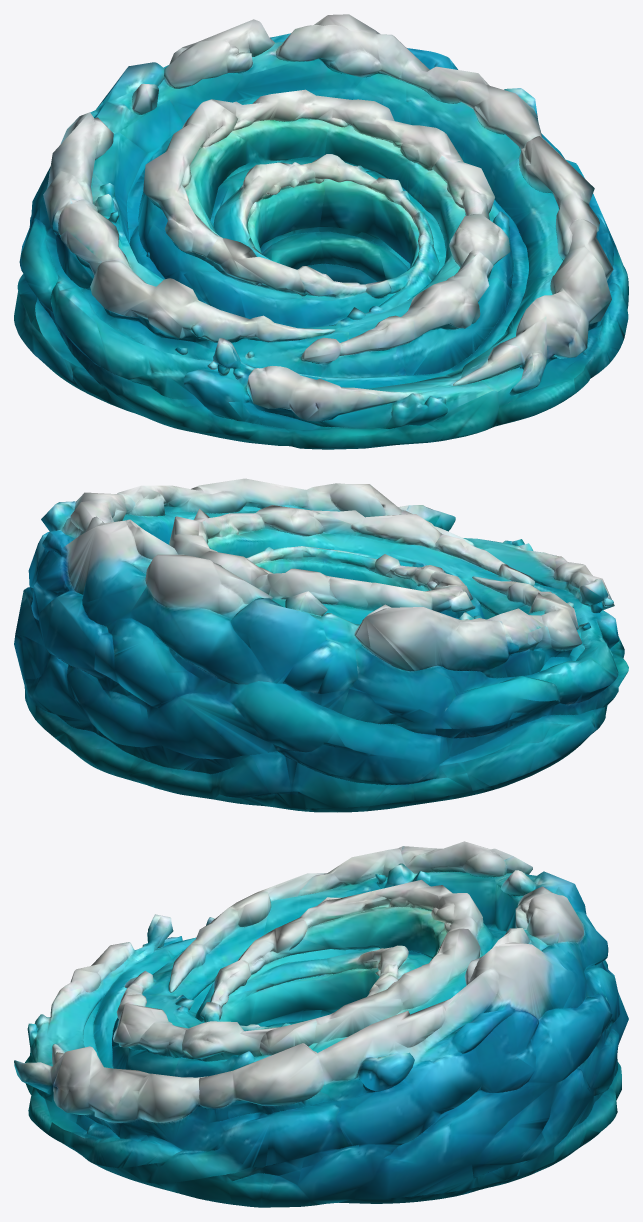
Rendered from whirlpool-hyper3d.glb.
3 views of the same model, one above another, from view 1: azimuth 30°, elevation 25°; view 2: azimuth 150°, elevation 25°; view 3: azimuth 270°, elevation 25° (orthographic). The views are drawn at different scales.
Parts seen in each view (by area): view 1: model; view 2: model; view 3: model.
Boxes of the visible parts, bbox=[...] form: model: bbox=[14, 14, 628, 449]; model: bbox=[14, 478, 628, 812]; model: bbox=[14, 841, 628, 1207].
Size of the model in its own units: 1.81 by 0.6839 by 1.9.
Materials: 1 (1 with a texture image).
